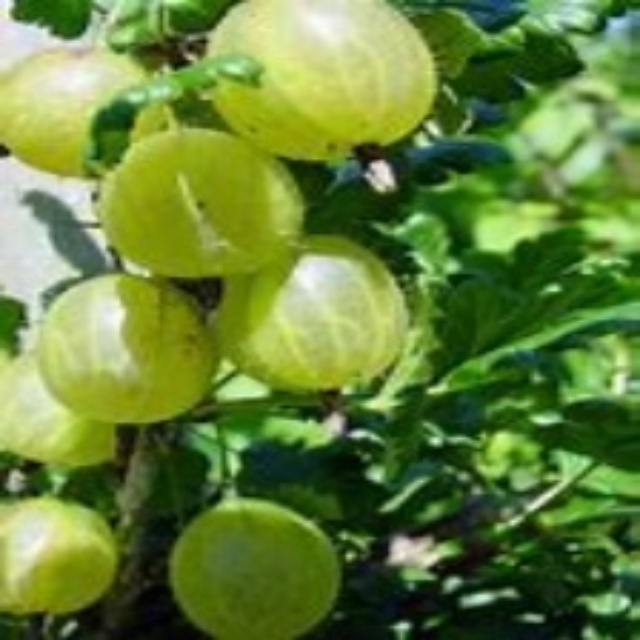kiwi: (207, 2, 431, 188), (205, 237, 414, 413), (89, 117, 308, 276), (28, 270, 237, 432), (146, 487, 352, 634), (11, 47, 157, 172), (2, 502, 118, 624)
